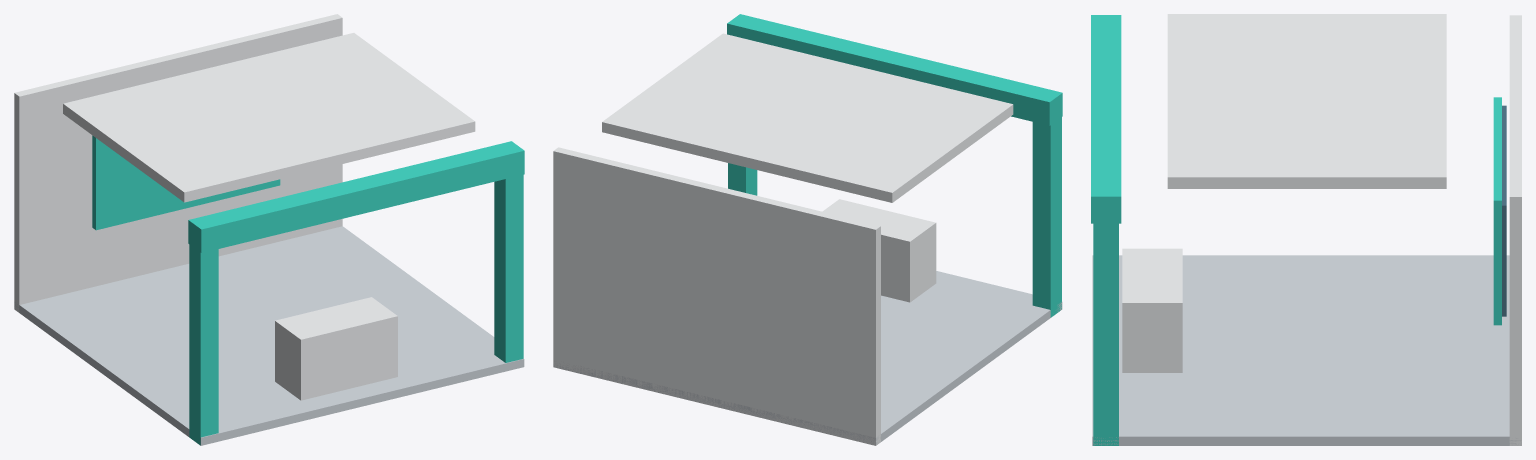
The picture shows the model from 3 angles, left to right: view 1: azimuth 30°, elevation 25°; view 2: azimuth 150°, elevation 25°; view 3: azimuth 270°, elevation 25°; orthographic projection. The views are drawn at different scales.
Parts seen in each view (by area): view 1: Exhibition Booth Concept; view 2: Exhibition Booth Concept; view 3: Exhibition Booth Concept.
Boxes of the visible parts, x1=… form: Exhibition Booth Concept: x1=14, y1=14, x2=524, y2=445; Exhibition Booth Concept: x1=553, y1=14, x2=1062, y2=445; Exhibition Booth Concept: x1=1091, y1=14, x2=1521, y2=445.
Bounding box in the file's own units: 5 × 3.34 × 5.02.
